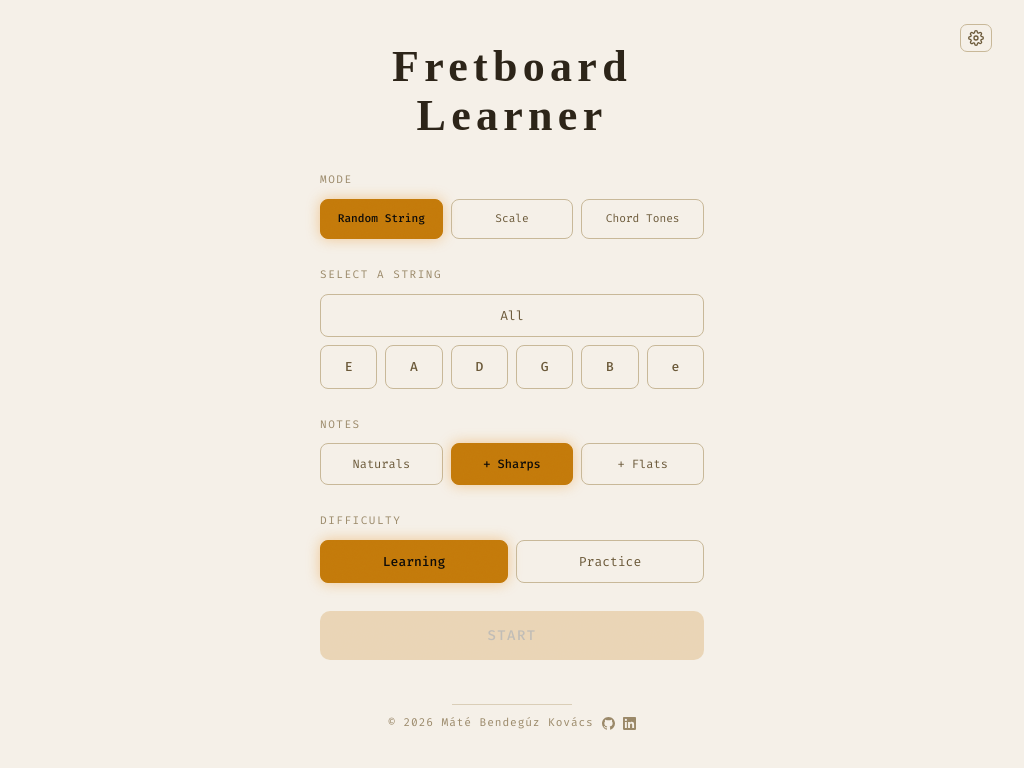
Scenario: GameScreen — static structure › renders the fretboard SVG
Click the button "A" at x=414, y=367, box [385,345,443,389]
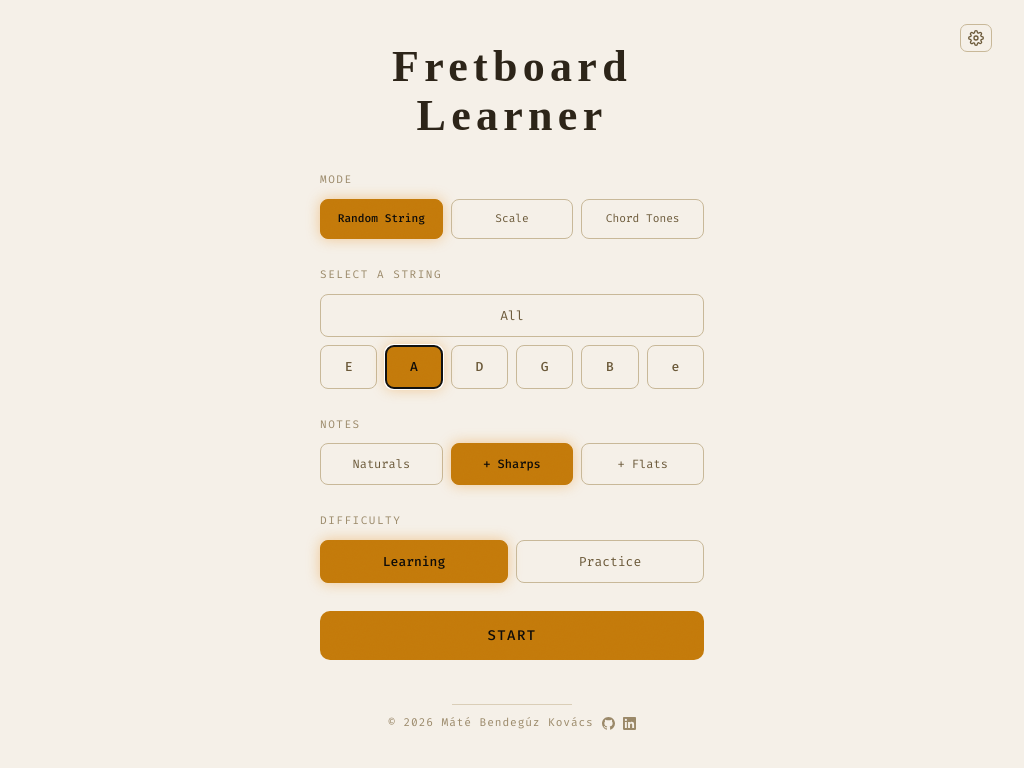
Click the button "Start" at x=512, y=636, box [320,611,704,660]
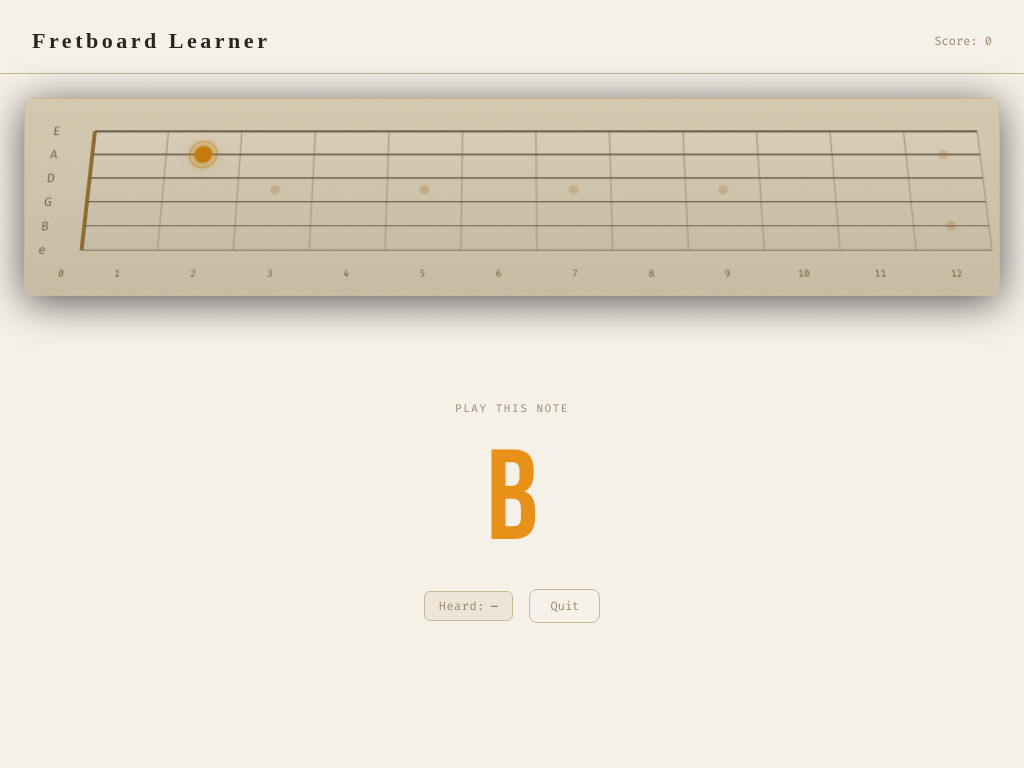
Now the picture named "fretboard" is shown, box [24,113,1000,285]
